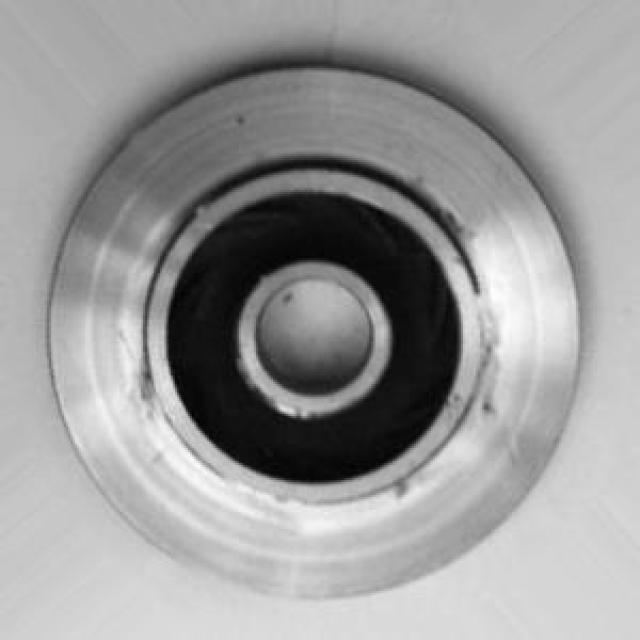Defect: (468, 303, 518, 420)
